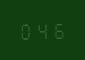four: (35, 20, 50, 39)
six: (51, 19, 66, 39)
zero: (18, 20, 33, 40)
